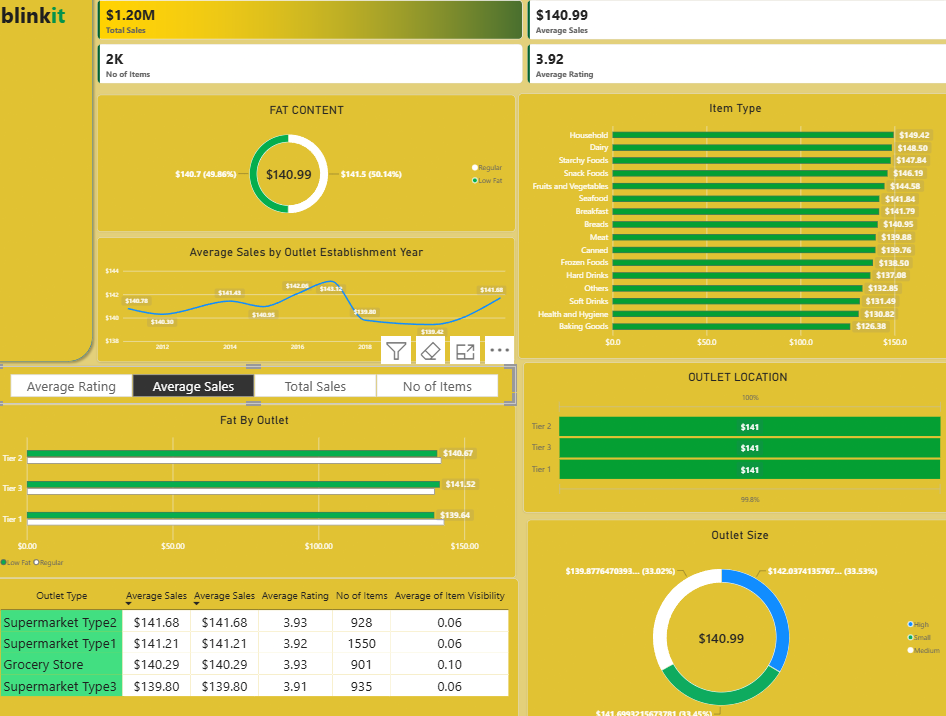

What the dashboard file says about the page in this screenshot:
{"tool":"powerbi","page":{"name":"Page 1","canvas":[1920,1500],"ordinal":0},"visuals":[{"type":"shape","box":[0,0,210,750],"z":0},{"type":"textbox","box":[16.3,16.3,150.2,398.1],"z":1000},{"type":"cardVisual","fields":{"Data":["BlinkIT Grocery Data.Total Sales","BlinkIT Grocery Data.Average Sales","BlinkIT Grocery Data.No of Items","BlinkIT Grocery Data.Average Rating","BlinkIT Grocery Data.Average Sales"]},"box":[209.9,16.3,1713.7,168.3],"z":2000},{"type":"donutChart","title":"FAT CONTENT","fields":{"Category":["BlinkIT Grocery Data.Item Fat Content"],"Y":["BlinkIT Grocery Data.Average Sales"]},"box":[209.6,208.1,837,274.6],"z":3000},{"type":"clusteredBarChart","title":"Item Type","fields":{"Category":["BlinkIT Grocery Data.Item Type"],"Y":["BlinkIT Grocery Data.Average Sales"]},"box":[1052.5,205,867.5,530],"z":4000},{"type":"clusteredBarChart","title":"Fat By Outlet","fields":{"Category":["BlinkIT Grocery Data.Outlet Location Type"],"Series":["BlinkIT Grocery Data.Item Fat Content"],"Y":["BlinkIT Grocery Data.Average Sales"]},"box":[0,828.3,1048.3,346.7],"z":5000},{"type":"lineChart","fields":{"Category":["BlinkIT Grocery Data.Outlet Establishment Year"],"Y":["BlinkIT Grocery Data.Average Sales"]},"box":[209.9,492.2,836.1,249.7],"z":6000},{"type":"donutChart","title":"Outlet Size","fields":{"Category":["BlinkIT Grocery Data.Outlet Size"],"Y":["BlinkIT Grocery Data.Average Sales"]},"box":[1070,1056.7,851.7,428.3],"z":7000},{"type":"funnel","title":"OUTLET LOCATION","fields":{"Category":["BlinkIT Grocery Data.Outlet Location Type"],"Y":["BlinkIT Grocery Data.Average Sales"]},"box":[1063.3,743.3,856.7,300.7],"z":8000},{"type":"tableEx","fields":{"Values":["BlinkIT Grocery Data.Outlet Type","BlinkIT Grocery Data.Average Sales","BlinkIT Grocery Data.Average Sales","BlinkIT Grocery Data.Average Rating","BlinkIT Grocery Data.No of Items","Avg(BlinkIT Grocery Data.Item Visibility)"]},"box":[0,1175,1052.5,325],"z":9000},{"type":"slicer","fields":{"Values":["Parameter 2.Parameter"]},"box":[0,750,1047.5,77.5],"z":9005}]}

Visuals, with their boxes on the page's 1920x1500 design canvas (x1, y1, x2, y2). These are canvas units, not pixel positions in the 946x716 screenshot, which may show the page scaled, cropped or inside an application window:
shape: <region>0, 0, 210, 750</region>
textbox: <region>16, 16, 166, 414</region>
cardVisual - BlinkIT Grocery Data.Total Sales x BlinkIT Grocery Data.Average Sales: <region>210, 16, 1924, 185</region>
"FAT CONTENT" donutChart: <region>210, 208, 1047, 483</region>
"Item Type" clusteredBarChart: <region>1052, 205, 1920, 735</region>
"Fat By Outlet" clusteredBarChart: <region>0, 828, 1048, 1175</region>
lineChart - BlinkIT Grocery Data.Outlet Establishment Year x BlinkIT Grocery Data.Average Sales: <region>210, 492, 1046, 742</region>
"Outlet Size" donutChart: <region>1070, 1057, 1922, 1485</region>
"OUTLET LOCATION" funnel: <region>1063, 743, 1920, 1044</region>
tableEx - BlinkIT Grocery Data.Outlet Type x BlinkIT Grocery Data.Average Sales: <region>0, 1175, 1052, 1500</region>
slicer - Parameter 2.Parameter: <region>0, 750, 1048, 828</region>
